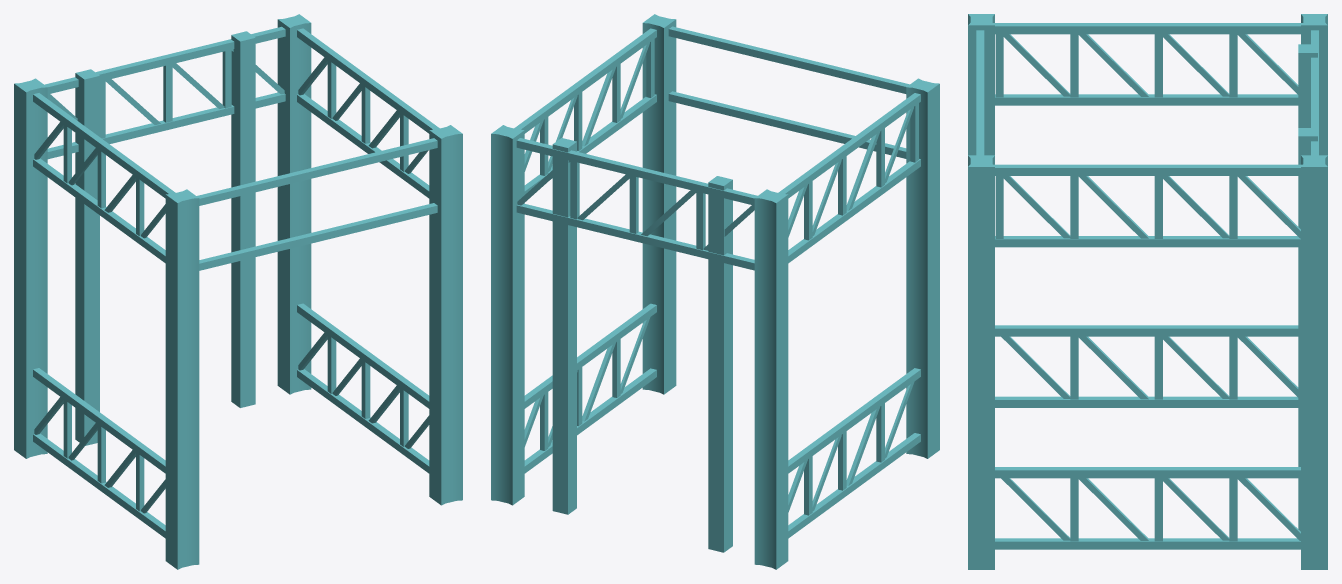
File: Elevator_Shaft_Mid.fbx
3 renders of one model, left to right at view 1: azimuth 30°, elevation 25°; view 2: azimuth 150°, elevation 25°; view 3: azimuth 270°, elevation 25°, orthographic. The views are drawn at different scales.
Visible parts, largest first — view 1: Elevator_Shaft_Mid; view 2: Elevator_Shaft_Mid; view 3: Elevator_Shaft_Mid.
Part boxes in pixels (left/top/right/bottom): Elevator_Shaft_Mid: left=14, top=14, right=462, bottom=569; Elevator_Shaft_Mid: left=491, top=14, right=939, bottom=569; Elevator_Shaft_Mid: left=968, top=14, right=1327, bottom=569.
Bounding box in the file's own units: 366 × 450 × 364.
